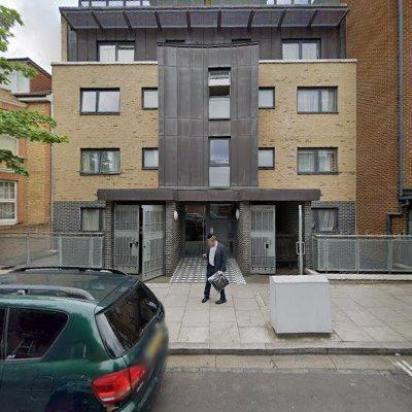stationary-car-onstreet: (0, 261, 168, 411)
